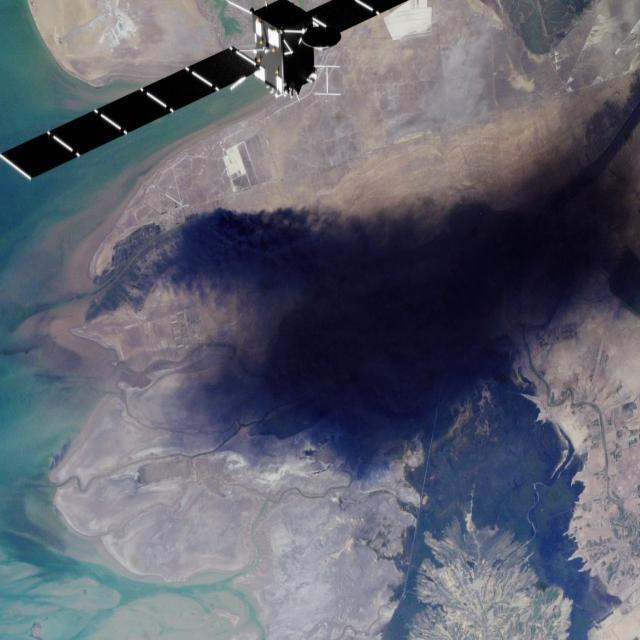satellite: (3, 0, 452, 195)
